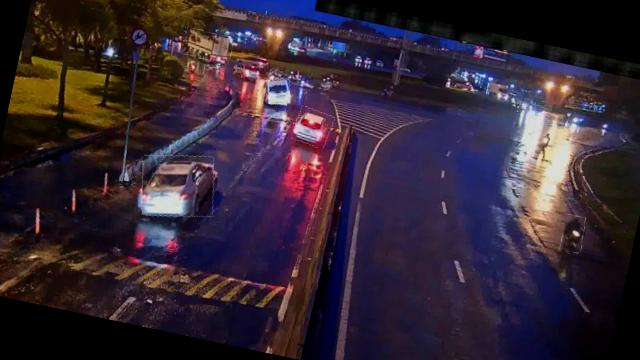Bike: (558, 213, 586, 254)
Bus: (262, 75, 293, 107)
Car: (134, 145, 221, 226), (292, 106, 334, 149)
Truck: (181, 27, 234, 64)
